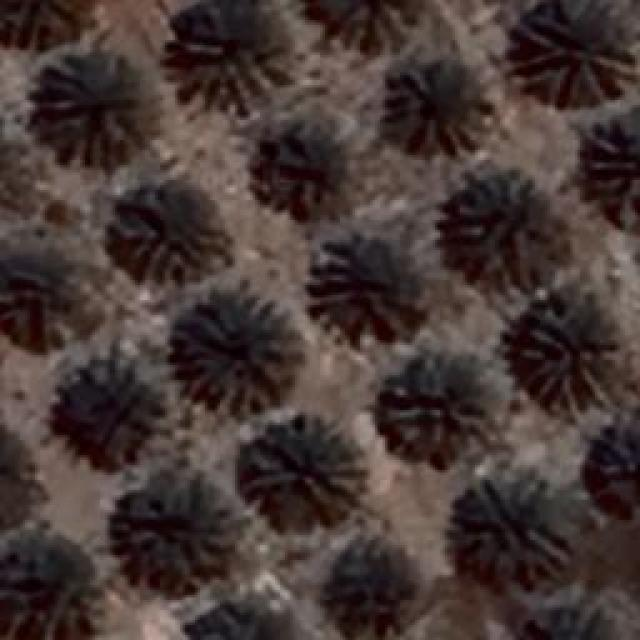PalmTree: (108, 474, 242, 588), (175, 298, 303, 412), (380, 340, 512, 450), (238, 412, 368, 520), (40, 52, 158, 168), (510, 0, 632, 110), (170, 5, 292, 113), (452, 468, 570, 578), (510, 302, 622, 416), (456, 172, 566, 286), (380, 55, 490, 160), (308, 234, 420, 336), (49, 365, 159, 463), (320, 542, 430, 636), (0, 531, 91, 640), (118, 190, 225, 280), (0, 236, 85, 344), (255, 124, 363, 204), (299, 0, 432, 56), (580, 414, 640, 520), (506, 590, 632, 640), (582, 110, 638, 222), (176, 590, 301, 640), (0, 0, 102, 57), (0, 420, 47, 528)
